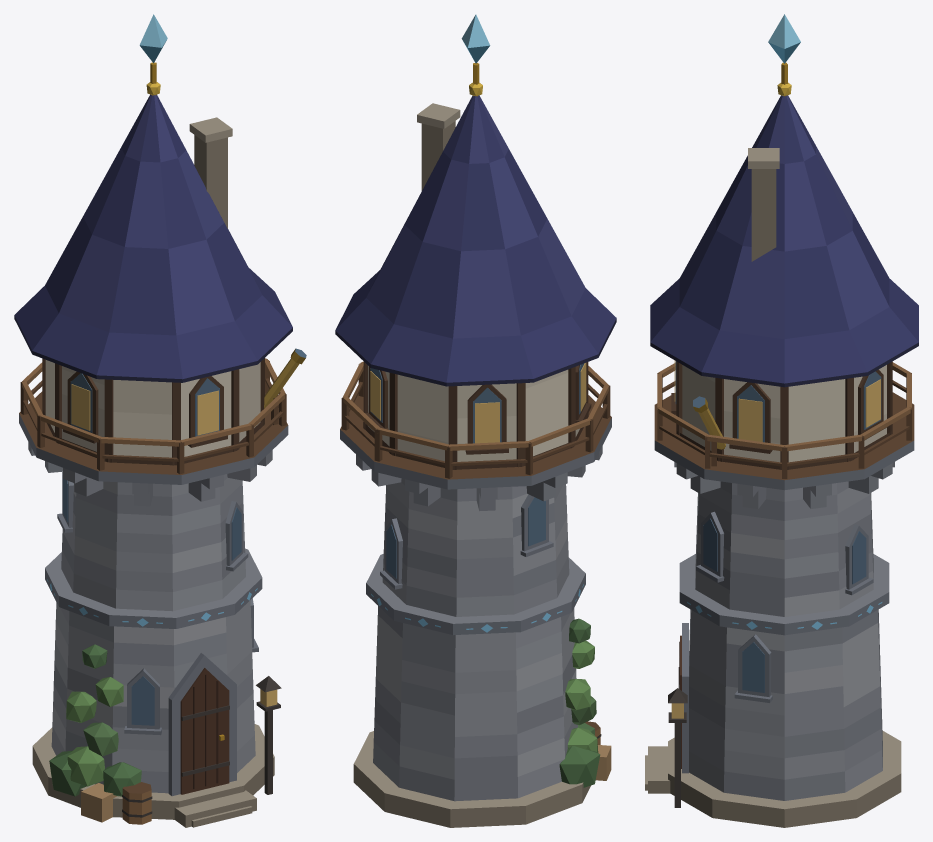
File: wizard_tower.glb
3 views of the same model, side by side, from view 1: azimuth 30°, elevation 25°; view 2: azimuth 150°, elevation 25°; view 3: azimuth 270°, elevation 25° (orthographic).
Parts seen in each view (by area): view 1: wizard_tower, Windows_glow, Crystal_glow; view 2: wizard_tower, Windows_glow, Crystal_glow; view 3: wizard_tower, Windows_glow, Crystal_glow.
Part boxes in pixels (x1=…): wizard_tower: x1=14, y1=62, x2=306, y2=827; Windows_glow: x1=71, y1=384, x2=218, y2=435; Crystal_glow: x1=139, y1=14, x2=167, y2=63; wizard_tower: x1=335, y1=63, x2=616, y2=827; Windows_glow: x1=370, y1=363, x2=586, y2=443; Crystal_glow: x1=461, y1=14, x2=490, y2=63; wizard_tower: x1=645, y1=62, x2=918, y2=827; Windows_glow: x1=674, y1=360, x2=880, y2=441; Crystal_glow: x1=768, y1=14, x2=800, y2=63.
Bounding box in the file's own units: 4.1 × 12.2 × 3.97.
